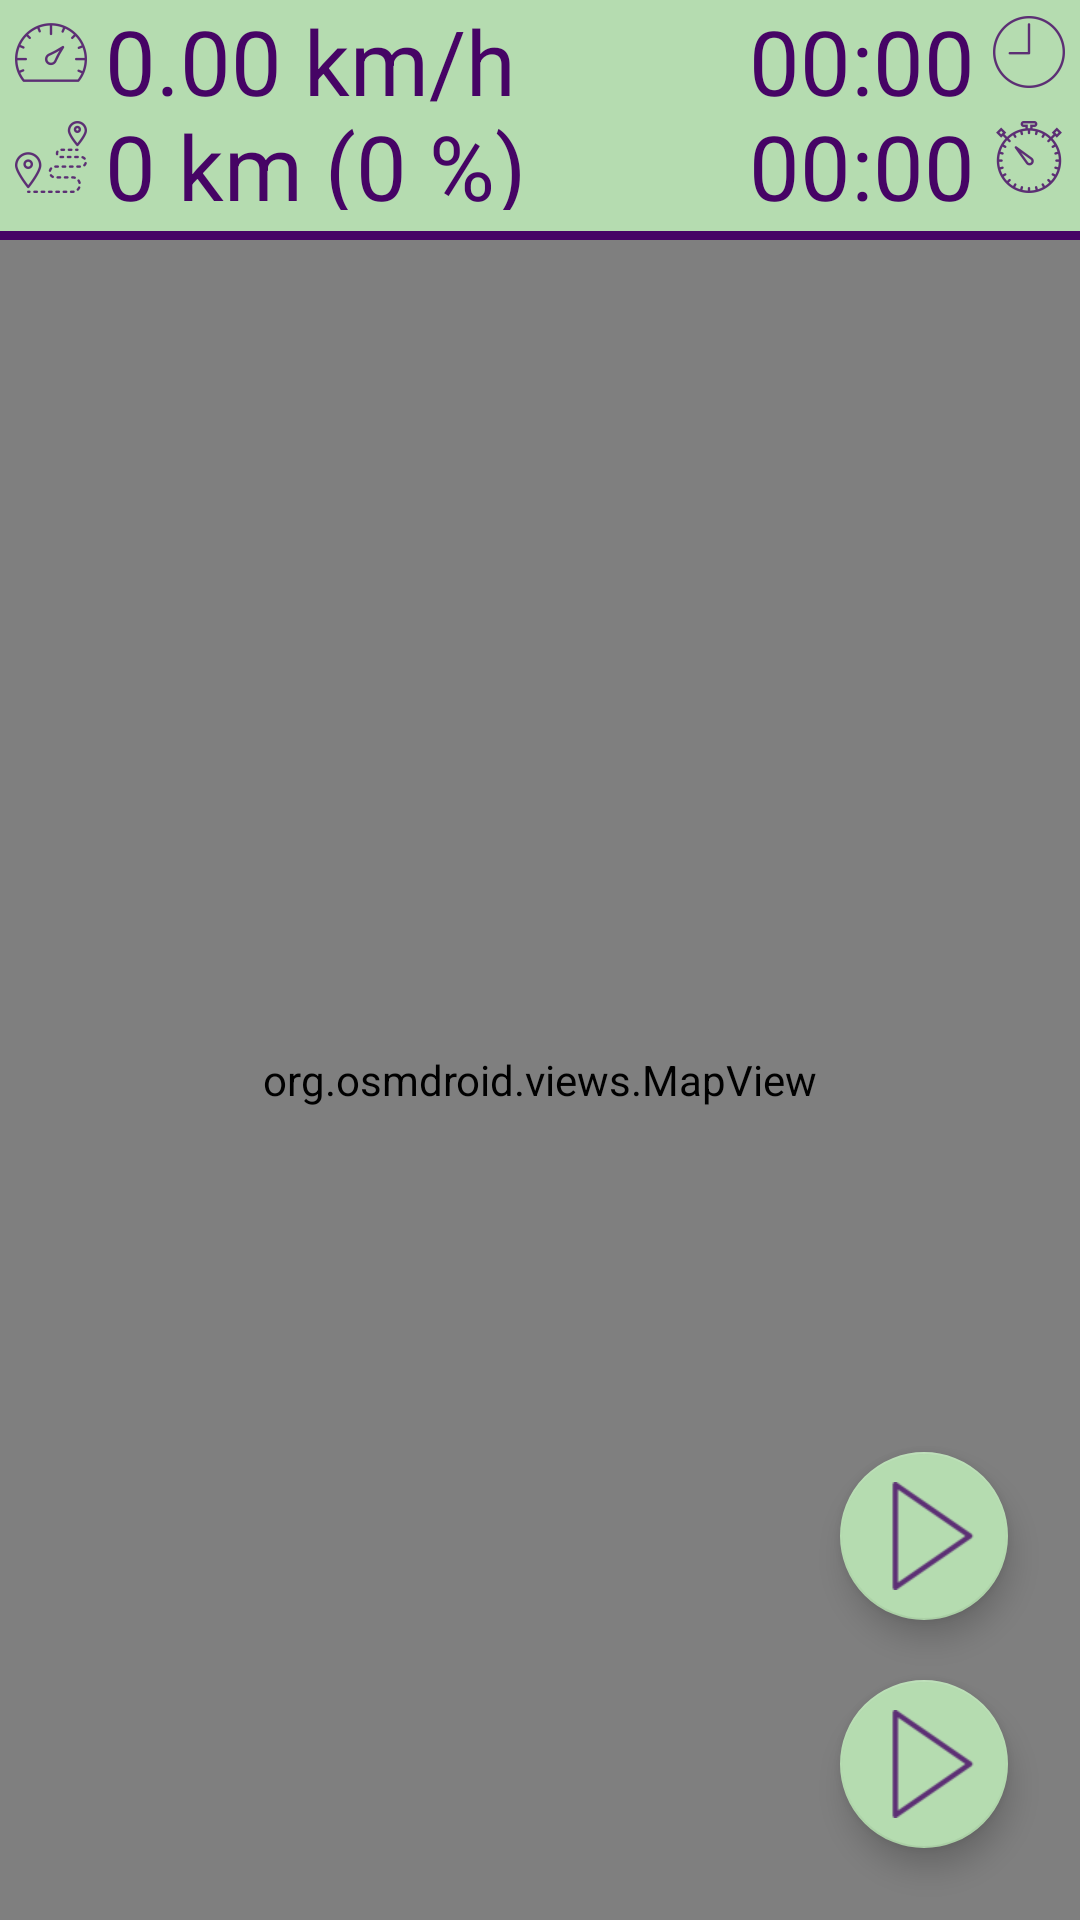

Locate icon controls on the screen. Image size 1080w x 1920h, boxes as (x1, y1, x2, y2).
start: (840, 1452, 1008, 1620), (840, 1680, 1008, 1848)
